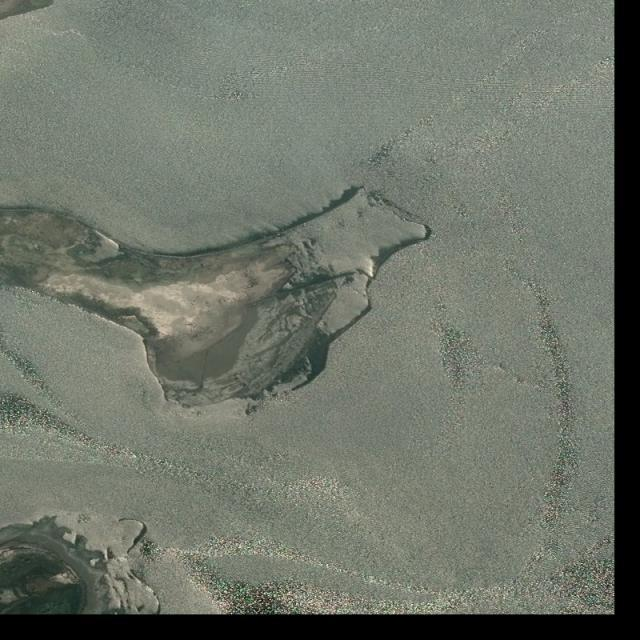ship: (131, 454, 138, 459)
